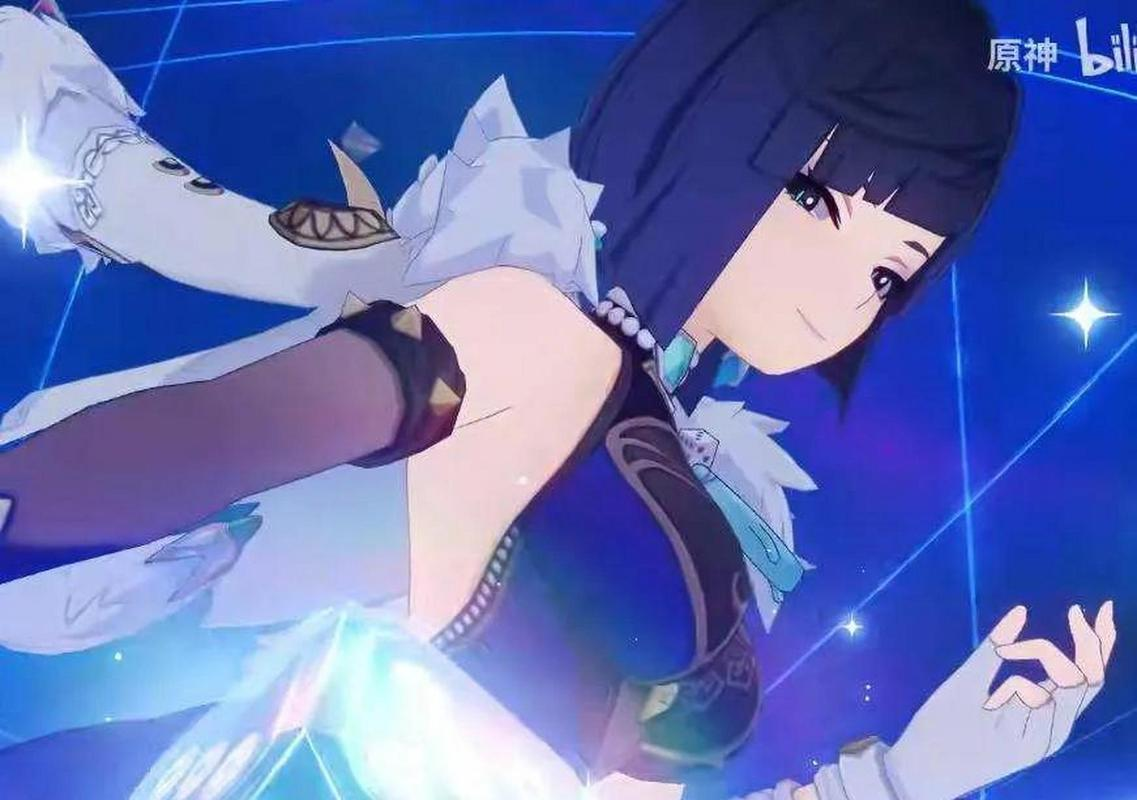夜兰: (1, 2, 1122, 800)
